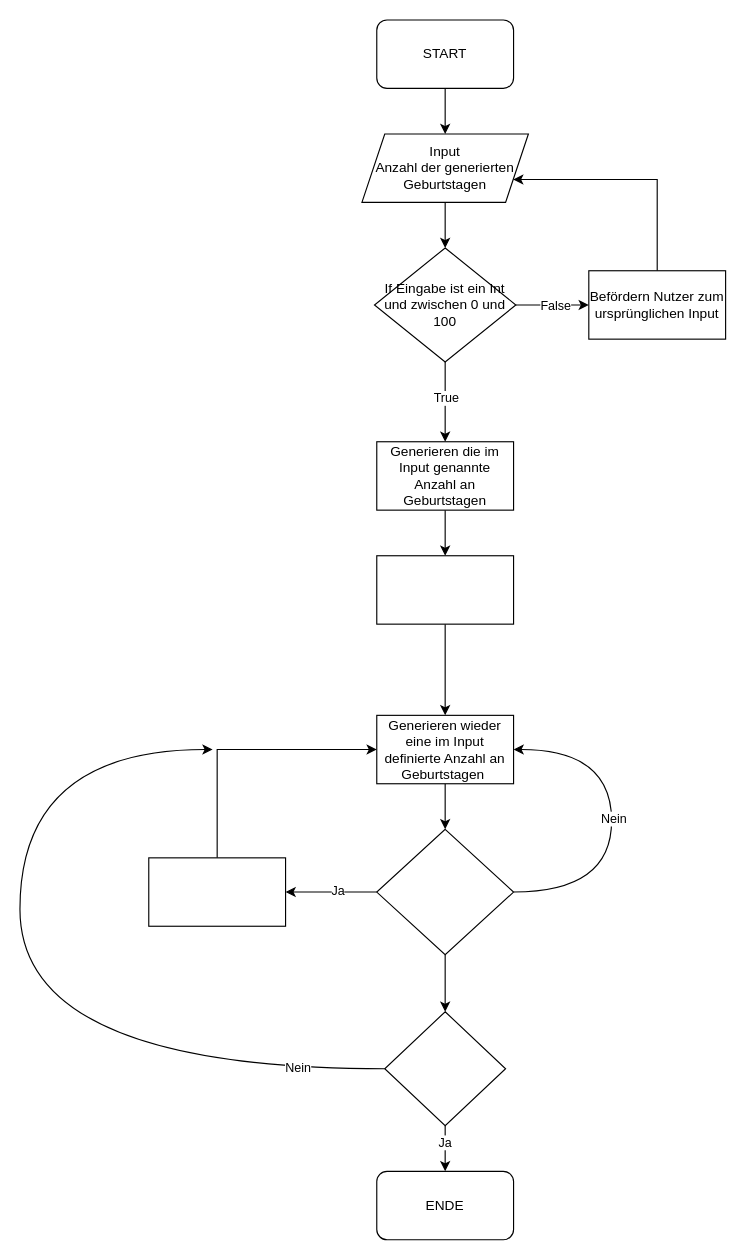
Image size: 746x1260. Some labels were removed from this diagram. The shapes that lost their labels are listed below. From the top down, each one's box as (x1, y1, x2, y2) in pixels, then its label:
(376, 555, 514, 624): Zeigen alle doppelt vorgekommenen Geburtstage
(148, 857, 286, 926): Doppelte werden zusammen addiert
(376, 828, 514, 955): Sind doppelte Geburtstage in der Liste enthalten?
(384, 1011, 506, 1126): Sind 100.000 Durchläufe erreicht
